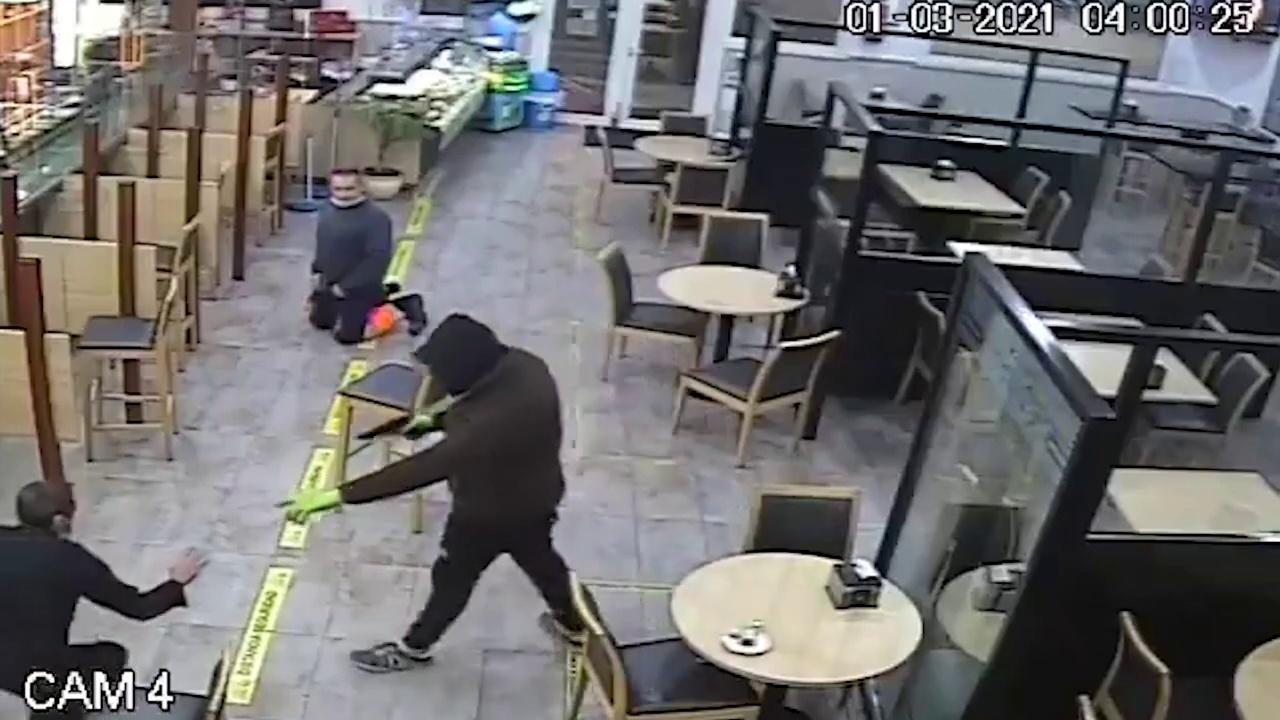Guns perspective: (332, 403, 452, 461)
